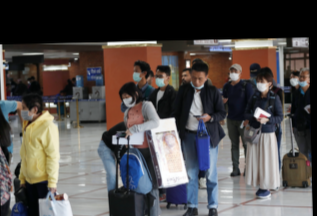mask_weared_incorrect: (191, 73, 205, 91), (297, 71, 309, 88)
with_mask: (19, 104, 32, 121), (154, 71, 166, 87), (122, 92, 135, 106), (256, 77, 267, 93), (132, 66, 142, 82), (229, 68, 240, 81), (289, 73, 298, 87)
without_mask: (181, 71, 191, 85)
